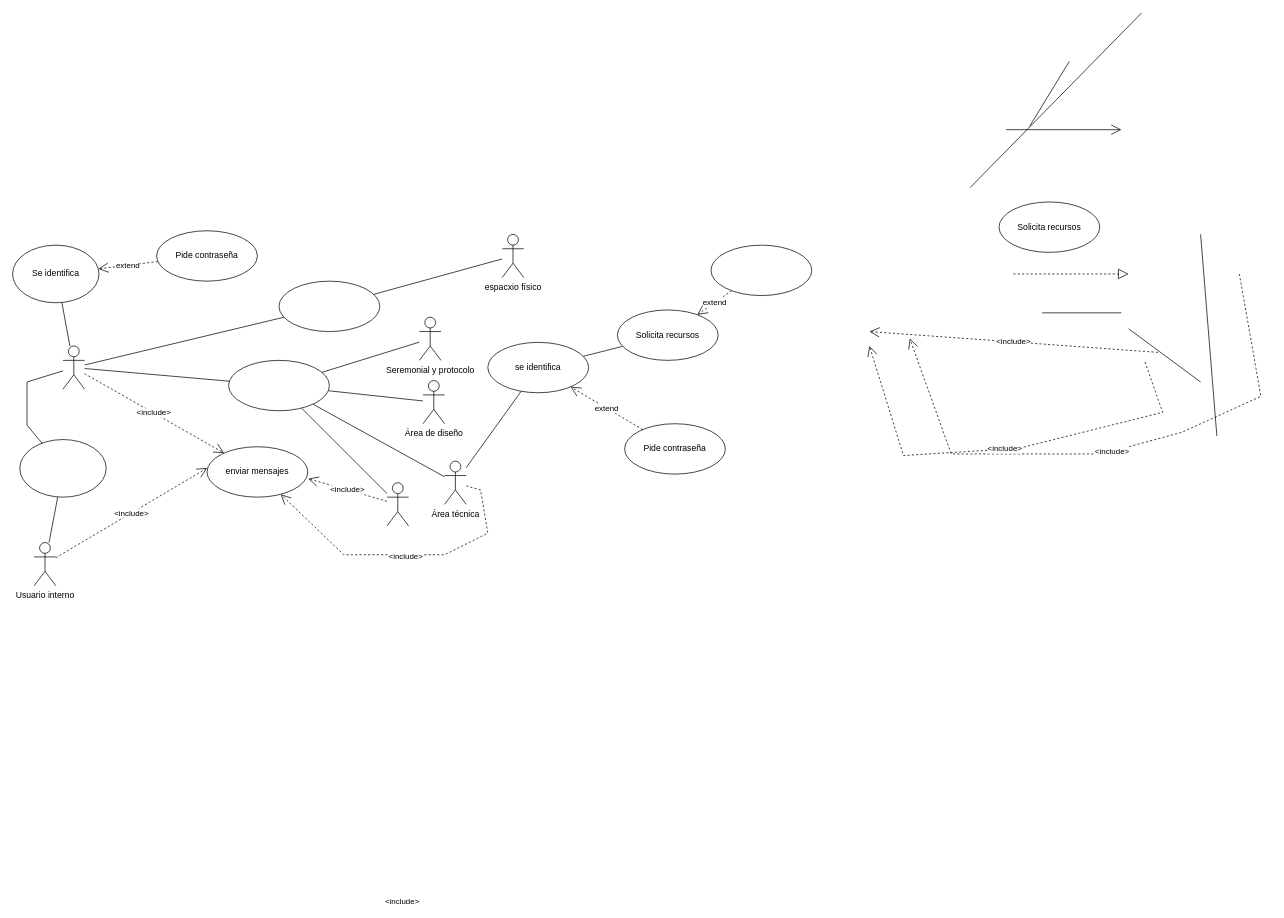
This 1284x918 diagram has some shape labels left out. The shapes that lost their labels are listed below. From the top down, each one's centre as x and y in pixels, then its label:
the point at 761,270: Valida recursos
the point at 329,306: Solicita espacio
the point at 73,367: Área solicitante
the point at 278,385: Solicita Área interviniente
the point at 62,468: Realiza evento
the point at 397,504: Área de difusión
